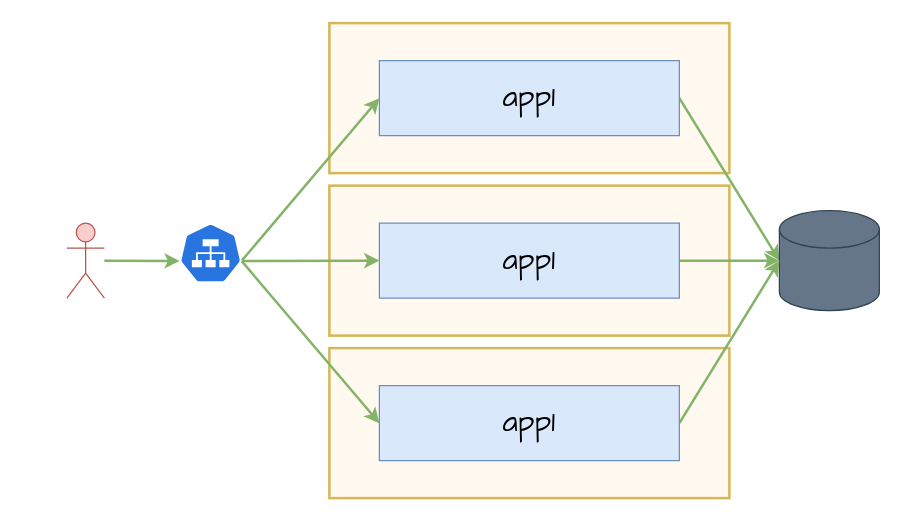
Image size: 901x520. Some labels were removed from this diagram. Each missing label, with the centre of its shape:
"DB" goes at (828,260).
"Пользователь" goes at (85,260).
